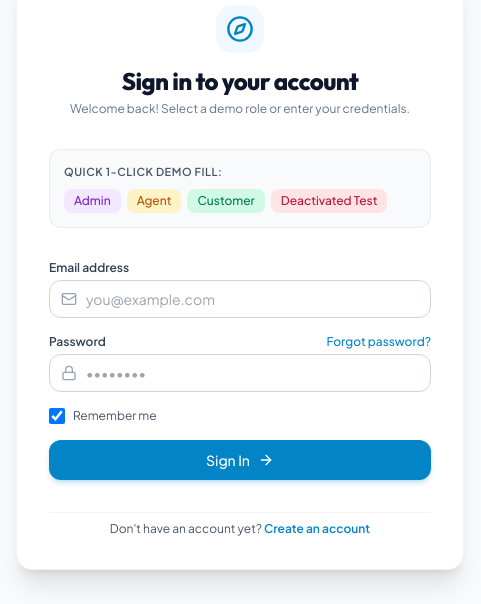
Scenario: LoginPage Component › fills demo credentials when clicking 1-click Admin button
Click the button "Admin" at (92, 200), box [64, 188, 121, 212]
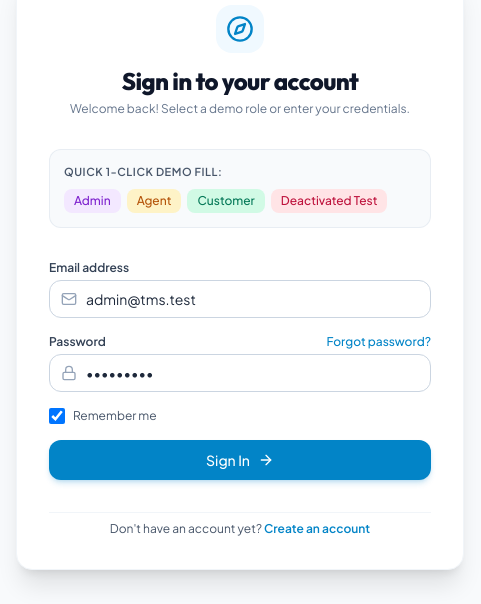
Result: the field labelled "Email address" holds "admin@tms.test" at [49, 280, 431, 318]
Result: the password field labelled "Password" holds "Admin@123" at [49, 354, 431, 392]
